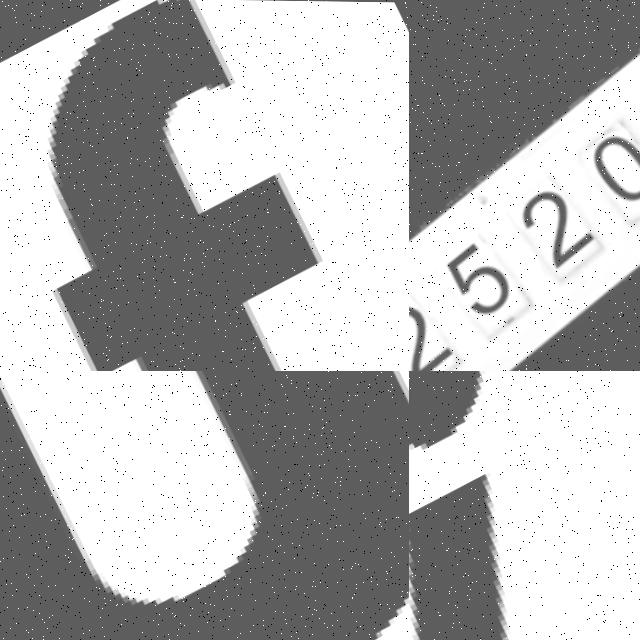0: (562, 104, 640, 231)
2: (496, 163, 612, 285), (409, 277, 474, 371)
5: (419, 218, 540, 346)
F: (0, 0, 409, 371)
U: (0, 371, 409, 640)
